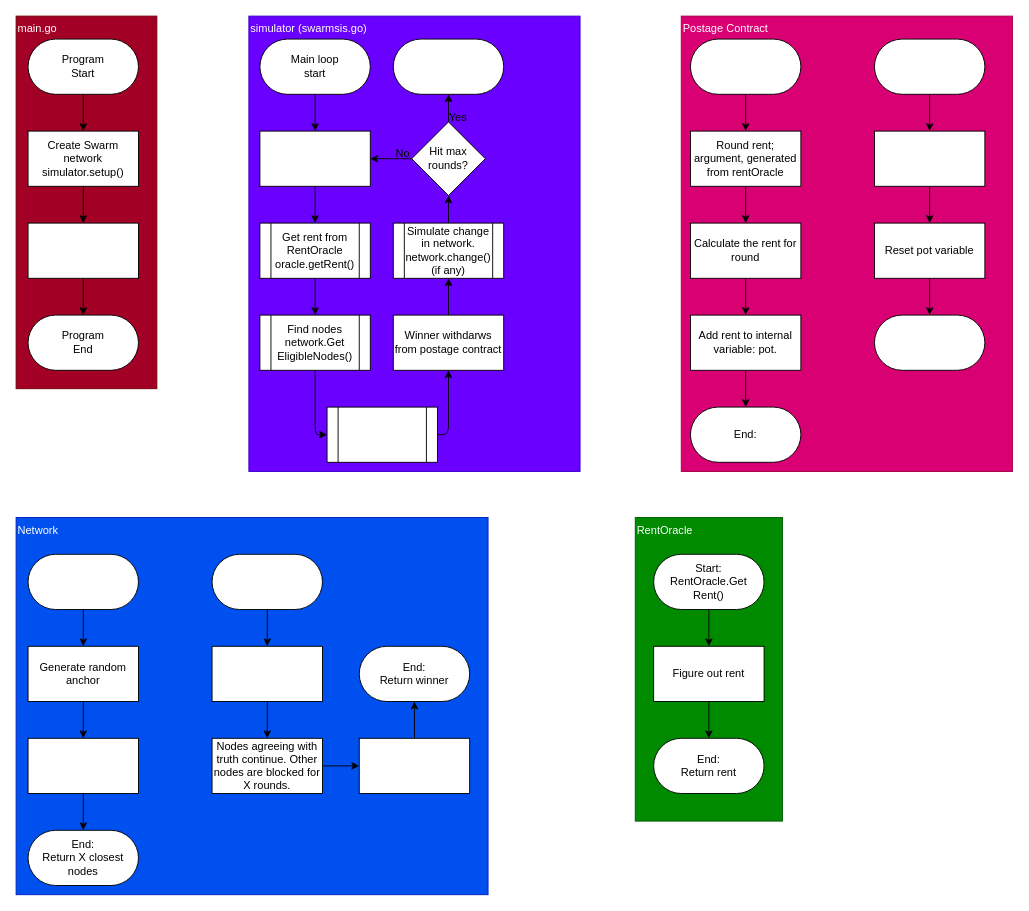
Image size: 1029x911. Some labels were removed from this diagram. Each missing label, with the centre of its shape:
Add the pot variable to balance of node: point (929, 158)
End: point (929, 342)
Find X closest nodes to anchor: point (82, 765)
Increment round count: point (314, 158)
Main loop end: point (448, 66)
Select a "thruth" teller at random, weighted with stake.: point (266, 673)
Select final winner at random, weighted with stake.: point (414, 765)
Select winning node network.select winner(): point (381, 434)
Start main loop: point (82, 250)
Start: network.Get EligibleNodes(): point (82, 581)
Start: Network.Select Winner([]nodes): point (266, 581)
Start: Postage.Collect Pot(Node): point (929, 66)
Start: Postage.getRound Rent(oracle rent): point (745, 66)
